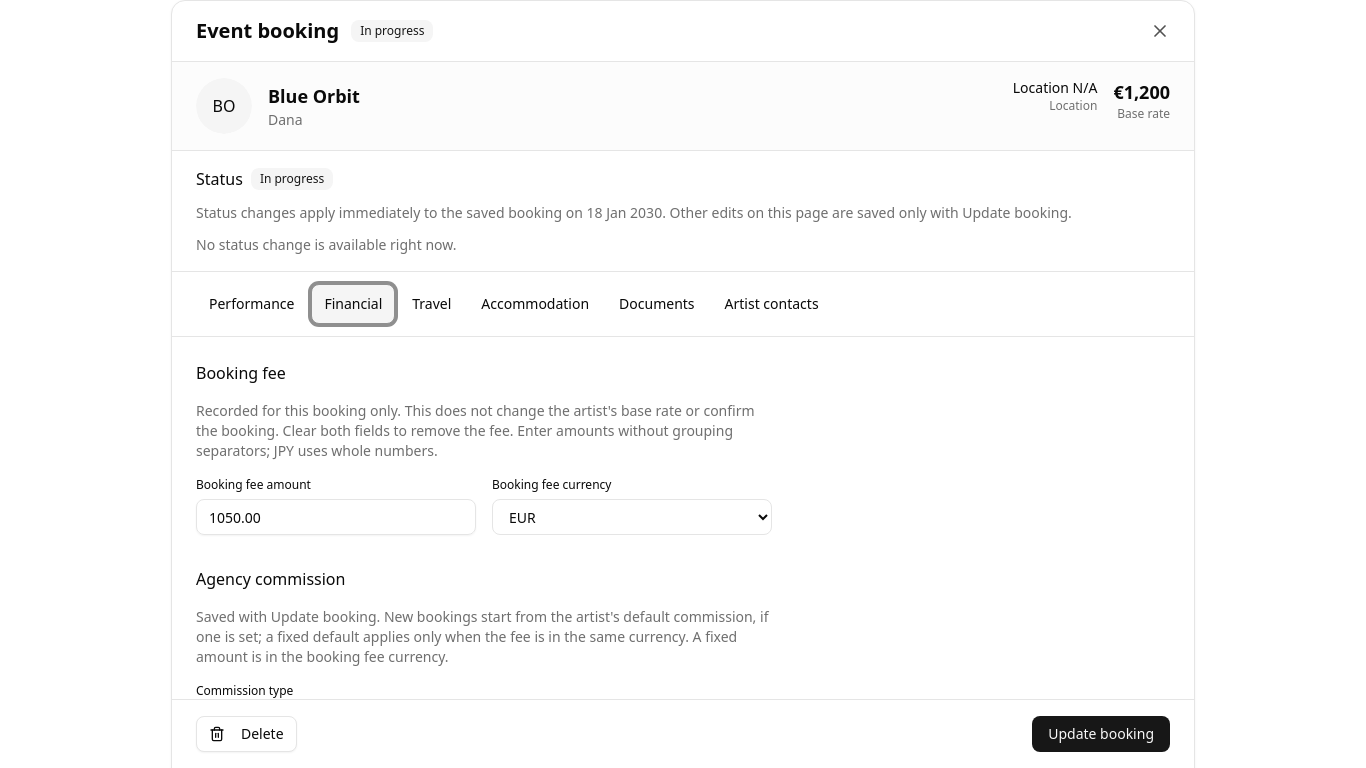
Test: targets only the missing field for amount  and currency EUR
Clear the field labelled "Booking fee amount" at (336, 517), box [196,499,476,535]
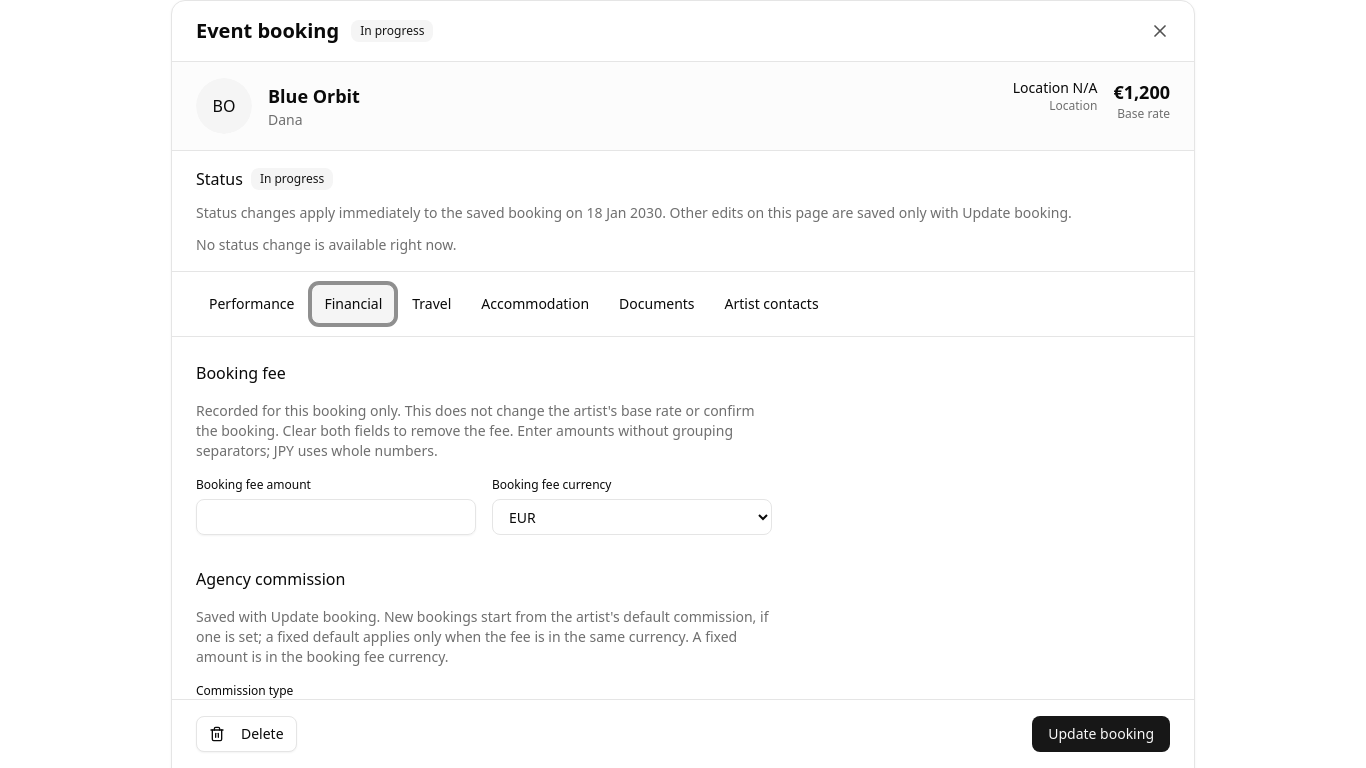
Select "EUR" in the dropdown labelled "Booking fee currency" at (632, 517), box [492,499,772,535]
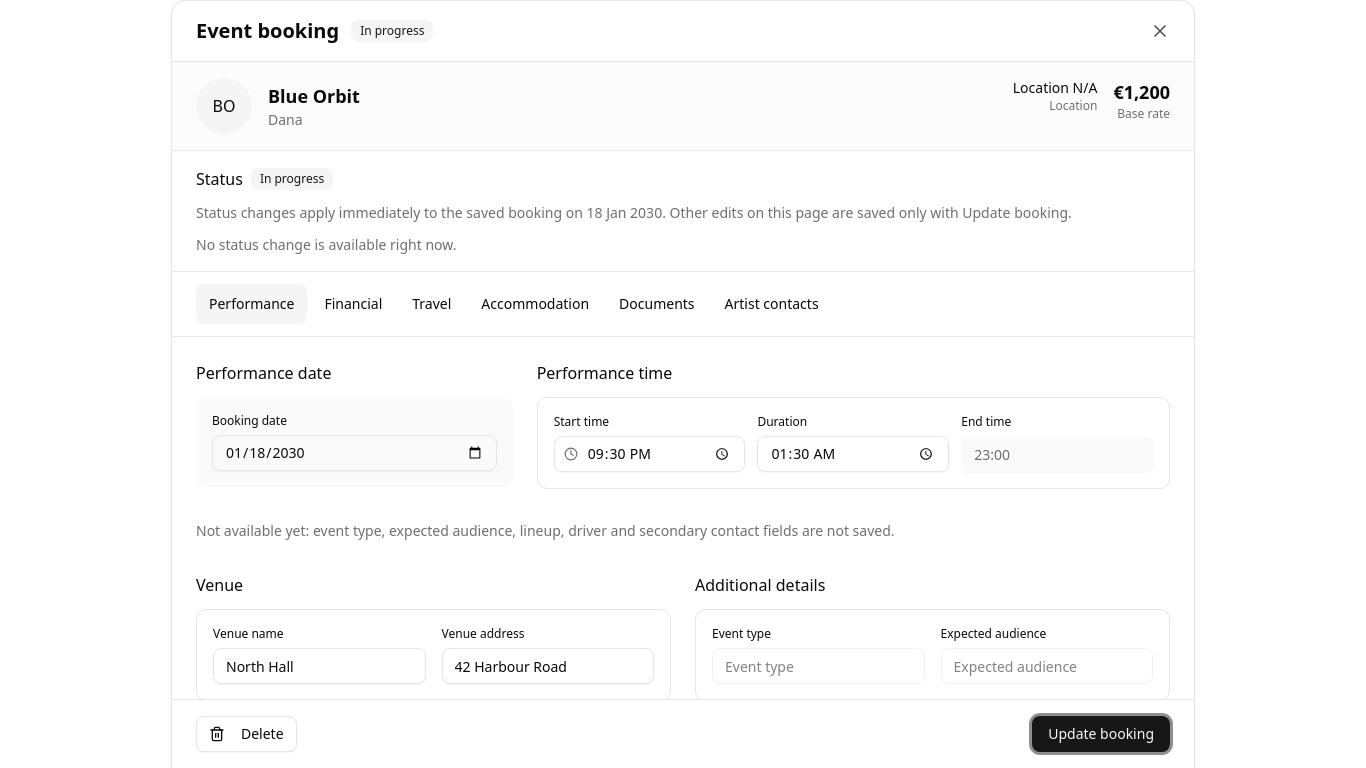
Click the button "Update booking".
click(1101, 734)  # box [1032,716,1170,752]
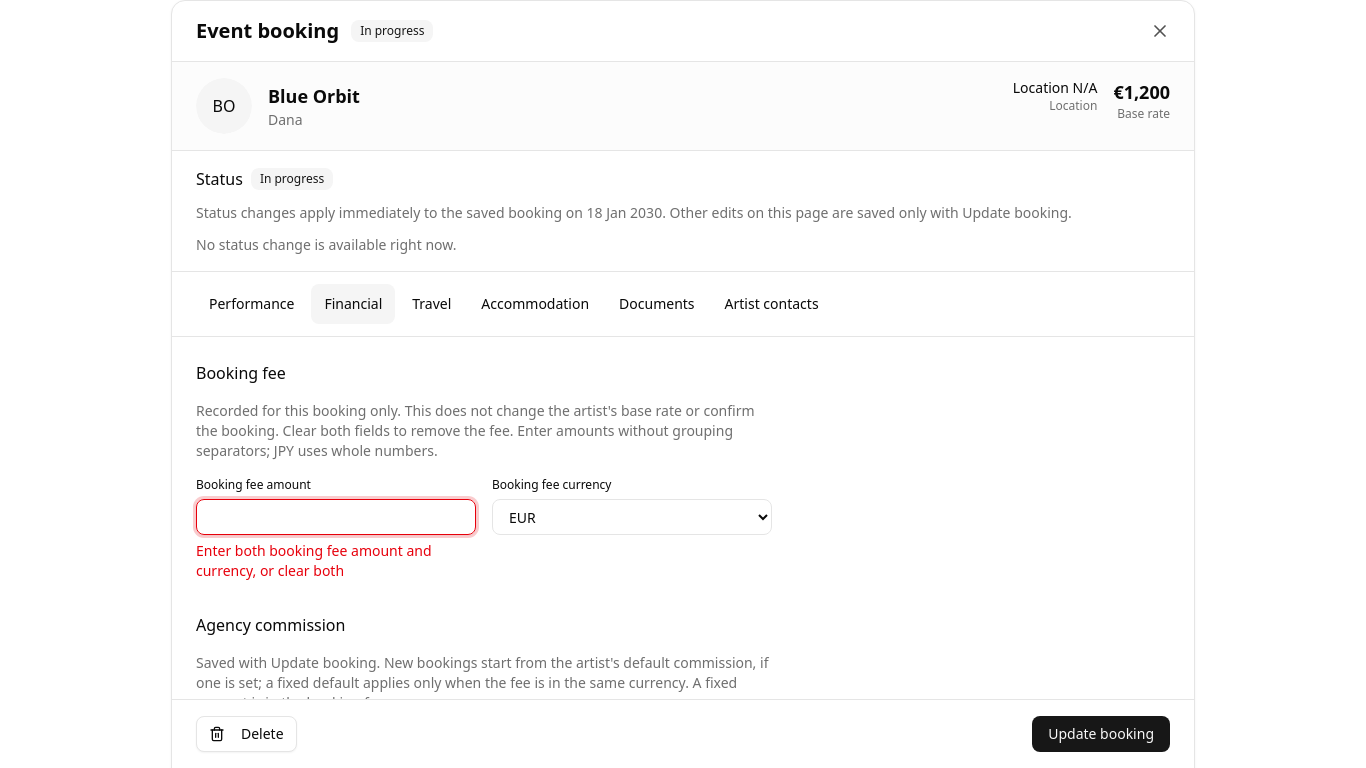
Expected: the field labelled "Booking fee amount" is marked as invalid, [196,499,476,535]
